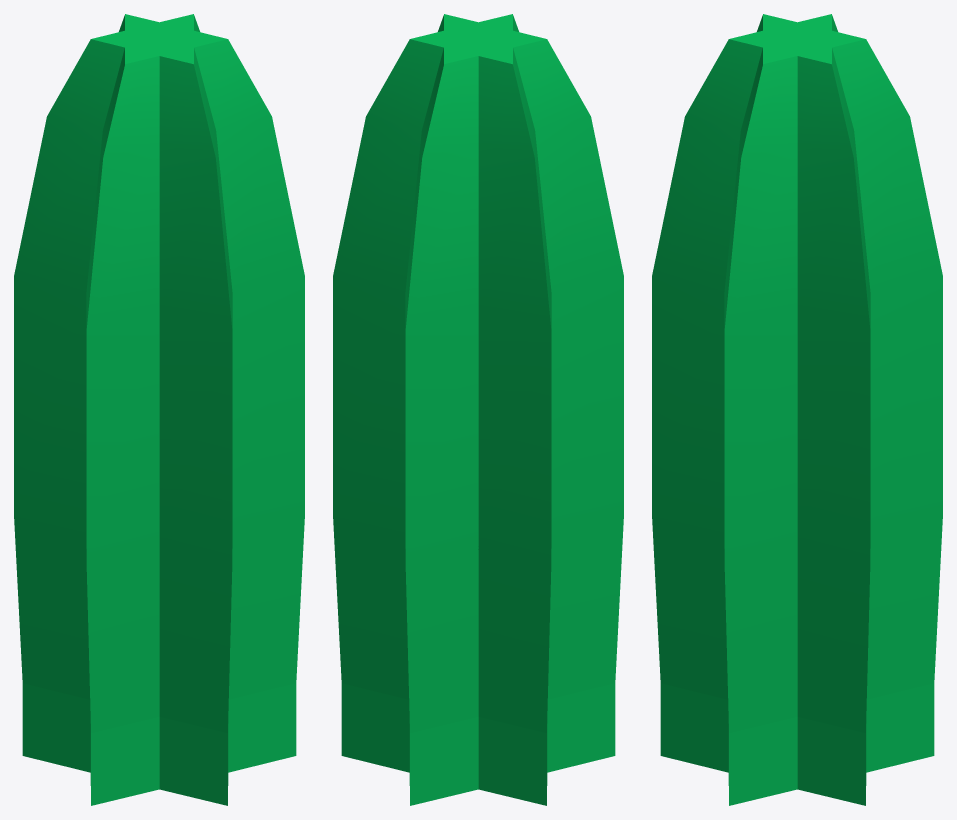
File: CactusTallBody.fbx
3 views of the same model, side by side, from view 1: azimuth 30°, elevation 25°; view 2: azimuth 150°, elevation 25°; view 3: azimuth 270°, elevation 25° (orthographic).
Visible parts, largest first — view 1: CactusTallBody; view 2: CactusTallBody; view 3: CactusTallBody.
Part boxes in pixels (x1,y1,x2,y2): CactusTallBody: [14, 14, 304, 805]; CactusTallBody: [333, 14, 623, 805]; CactusTallBody: [652, 14, 942, 805].
Size of the model in its own units: 2.95 by 9.25 by 3.4.
